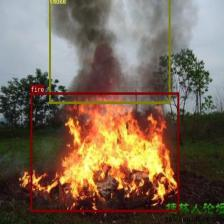fire: (30, 92, 179, 212)
smoke: (49, 0, 170, 103)
